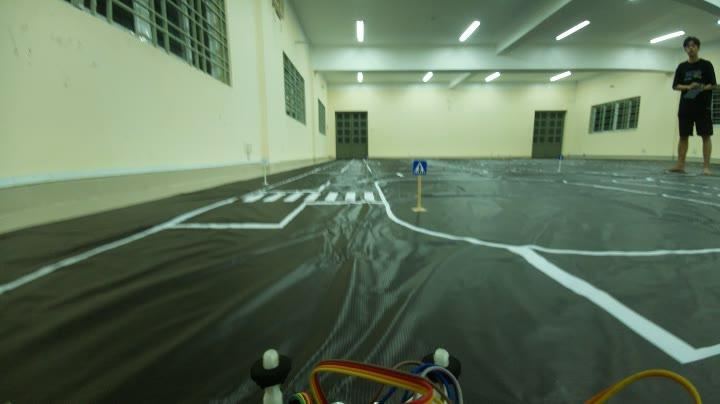crosswalk: (412, 156, 432, 178)
